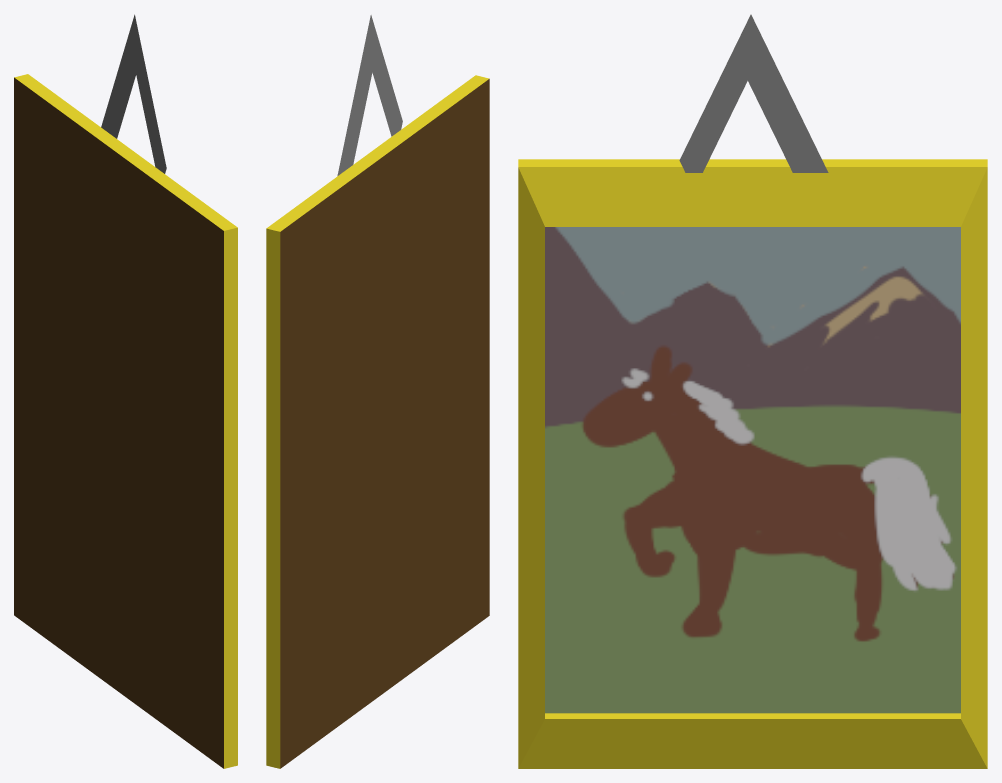
The model's file is paintingHorse.fbx.
3 views of the same model, side by side, from view 1: azimuth 30°, elevation 25°; view 2: azimuth 150°, elevation 25°; view 3: azimuth 270°, elevation 25° (orthographic). The views are drawn at different scales.
Parts seen in each view (by area): view 1: Frame; view 2: Frame; view 3: countPainting, Frame.
Boxes of the visible parts, x1,y1,x2,y2 form: Frame: [14, 14, 237, 768]; Frame: [266, 15, 489, 768]; countPainting: [545, 227, 960, 713]; Frame: [518, 14, 987, 768].
Size of the model in its own units: 5.81 by 163 by 91.59.
